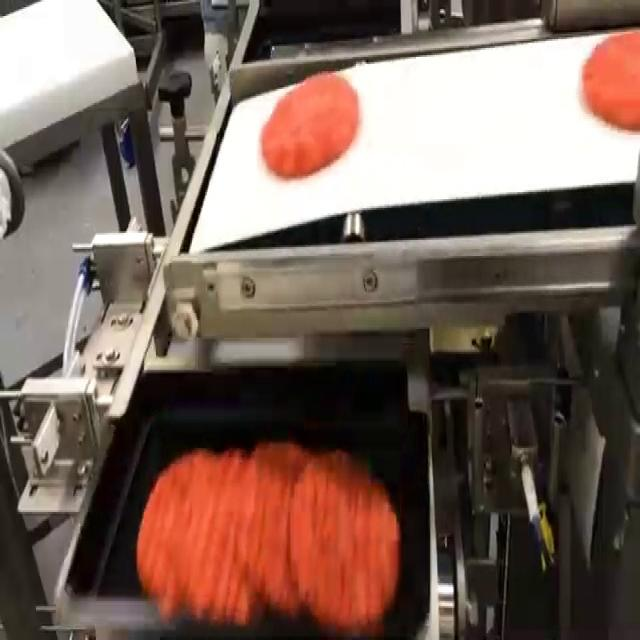4-hamburguer: (137, 443, 400, 631)
hamburguer: (261, 73, 359, 180)
